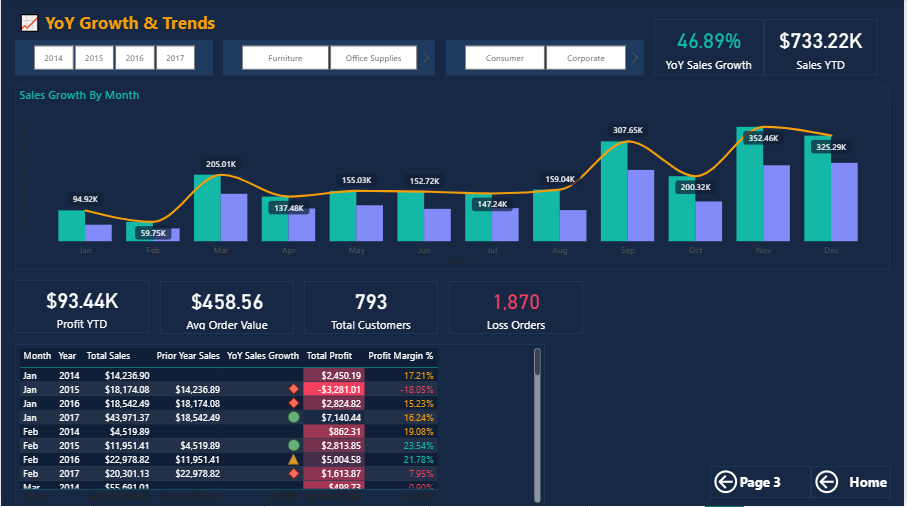

Layout of this report page (visuals, bound fields, positions):
{"tool":"powerbi","page":{"name":"YoY Growth & Trends","canvas":[1280,720],"ordinal":3},"visuals":[{"type":"textbox","box":[19.7,12.5,600.7,46.5],"z":0},{"type":"slicer","fields":{"Values":["Superstore.Category"]},"box":[315,60,300,50],"z":1000},{"type":"slicer","fields":{"Values":["Superstore.Segment"]},"box":[630,60,280,50],"z":2000},{"type":"slicer","fields":{"Values":["DateTable.Year"]},"box":[20,60,280,50],"z":3000},{"type":"lineClusteredColumnComboChart","title":"Sales Growth By Month","fields":{"Category":["DateTable.Month"],"Y":["Superstore.Total Sales","Superstore.Prior Year Sales"],"Y2":["Sum(Superstore.Sales)"]},"box":[20,125,1240,260],"z":4000},{"type":"card","fields":{"Values":["Superstore.YoY Sales Growth"]},"box":[926,30.4,155.5,80.4],"z":5000},{"type":"card","fields":{"Values":["Superstore.Sales YTD"]},"box":[1081.6,30.4,160.9,80.4],"z":6000},{"type":"card","fields":{"Values":["Superstore.Profit YTD"]},"box":[20,400,190,75],"z":7000},{"type":"card","fields":{"Values":["Superstore.Avg Order Value"]},"box":[225,400.4,190,75],"z":8000},{"type":"card","fields":{"Values":["Superstore.Total Customers"]},"box":[430,400.4,190,75],"z":9000},{"type":"card","fields":{"Values":["Superstore.Loss Orders"]},"box":[635,400.4,190,75],"z":10000},{"type":"tableEx","fields":{"Values":["DateTable.Month","DateTable.Year","Superstore.Total Sales","Superstore.Prior Year Sales","Superstore.YoY Sales Growth","Superstore.Total Profit","Superstore.Profit Margin %"]},"box":[19.7,489.8,750.8,230.6],"z":11000},{"type":"actionButton","box":[1004.7,663.2,143,44.7],"z":12000},{"type":"actionButton","box":[1147.7,663.2,112.6,44.7],"z":13000}]}

Visuals, with their boxes in screenshot pixels (x1, y1, x2, y2), scaled from the page's 1280x720 canvas onto the 907x507 screenshot:
textbox: <region>14, 9, 440, 42</region>
slicer - Superstore.Category: <region>223, 42, 436, 77</region>
slicer - Superstore.Segment: <region>446, 42, 645, 77</region>
slicer - DateTable.Year: <region>14, 42, 213, 77</region>
"Sales Growth By Month" lineClusteredColumnComboChart: <region>14, 88, 893, 271</region>
card - Superstore.YoY Sales Growth: <region>656, 21, 766, 78</region>
card - Superstore.Sales YTD: <region>766, 21, 880, 78</region>
card - Superstore.Profit YTD: <region>14, 282, 149, 334</region>
card - Superstore.Avg Order Value: <region>159, 282, 294, 335</region>
card - Superstore.Total Customers: <region>305, 282, 439, 335</region>
card - Superstore.Loss Orders: <region>450, 282, 585, 335</region>
tableEx - DateTable.Month x DateTable.Year: <region>14, 345, 546, 506</region>
actionButton: <region>712, 467, 813, 498</region>
actionButton: <region>813, 467, 893, 498</region>
